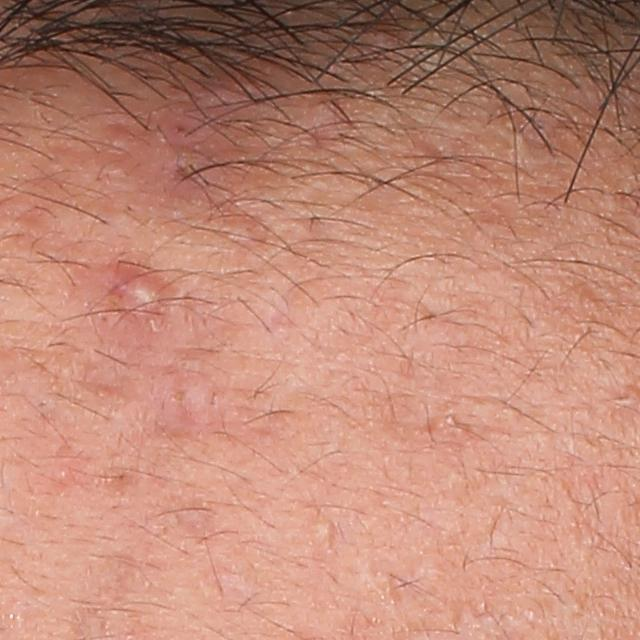comedo: (306, 513, 342, 544), (53, 466, 74, 488)
pustule: (123, 270, 185, 323)
